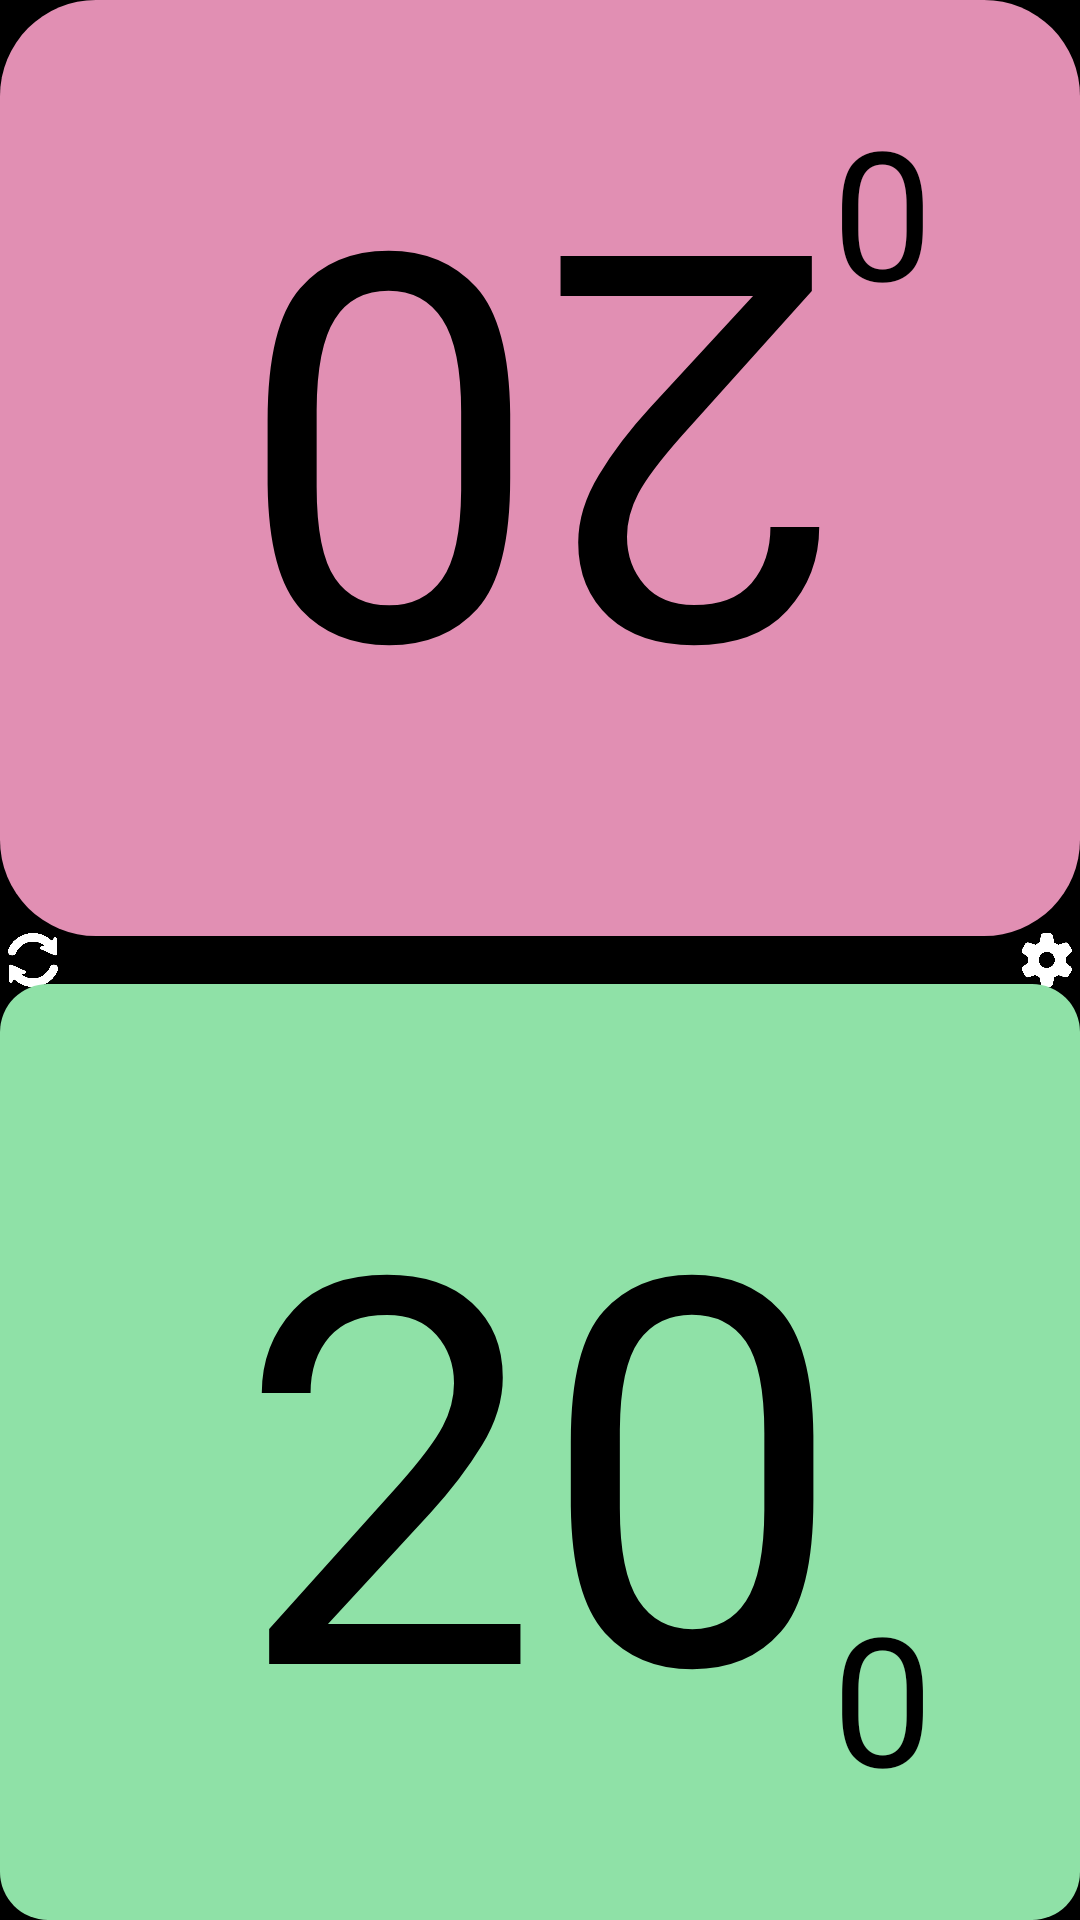

Locate icon controls on the screen. Image size 1080 x 1920, boxes as (x1, y1, x2, y2).
refresh: (8, 933, 60, 987)
settings: (1020, 933, 1072, 987)
